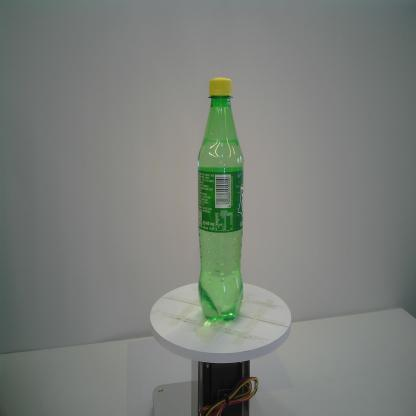Drink: (196, 76, 244, 321)
